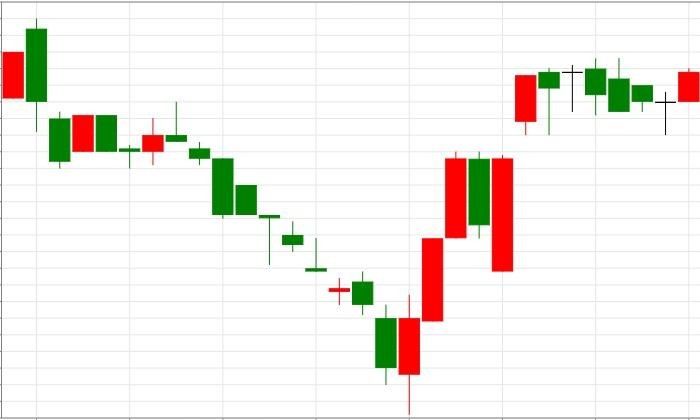bullish_engulfing_rise: (165, 101, 420, 415)
hanging_man_fall: (491, 68, 560, 272)
morning_star_rise: (26, 18, 165, 169), (584, 56, 700, 135)
three_white_soldiers_rise: (165, 101, 467, 415)
